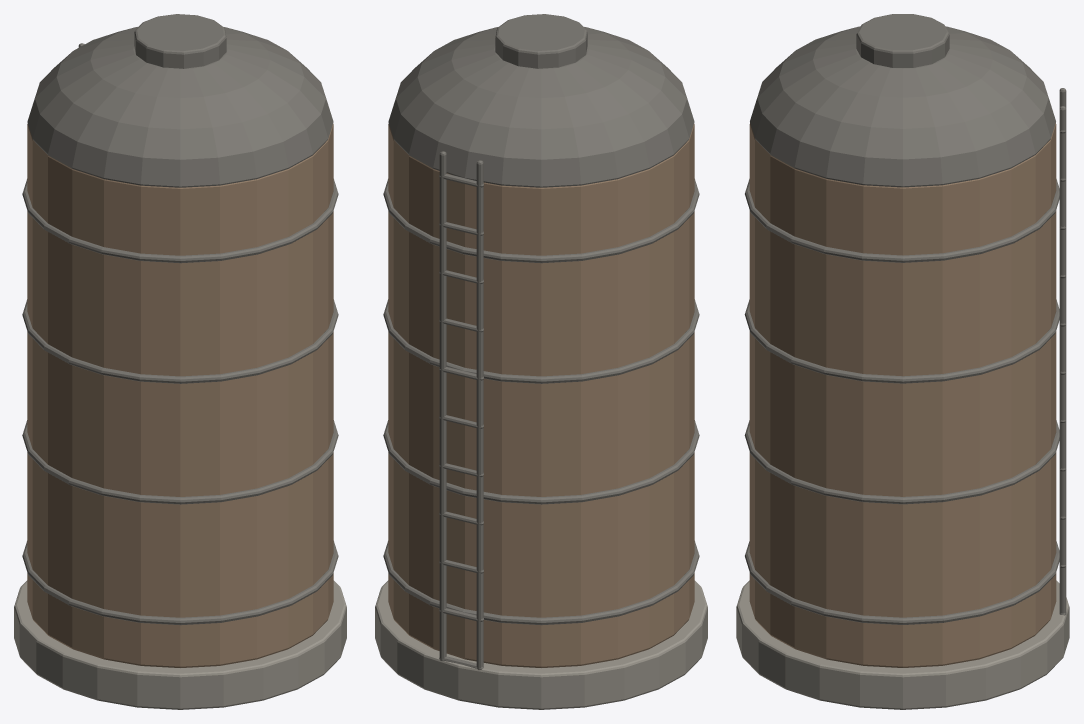
Rendered from silo.glb.
3 renders of one model, left to right at view 1: azimuth 30°, elevation 25°; view 2: azimuth 150°, elevation 25°; view 3: azimuth 270°, elevation 25°, orthographic.
Parts seen in each view (by area): view 1: base; view 2: base; view 3: base.
Part boxes in pixels (x1,y1,x2,y2): base: (14,14,346,709); base: (375,14,707,709); base: (736,14,1069,709).
Bounding box in the file's own units: 2.5 × 5.04 × 2.5.
